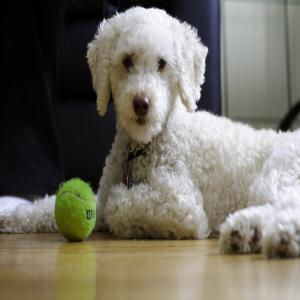TennisBall: (56, 177, 97, 243)
